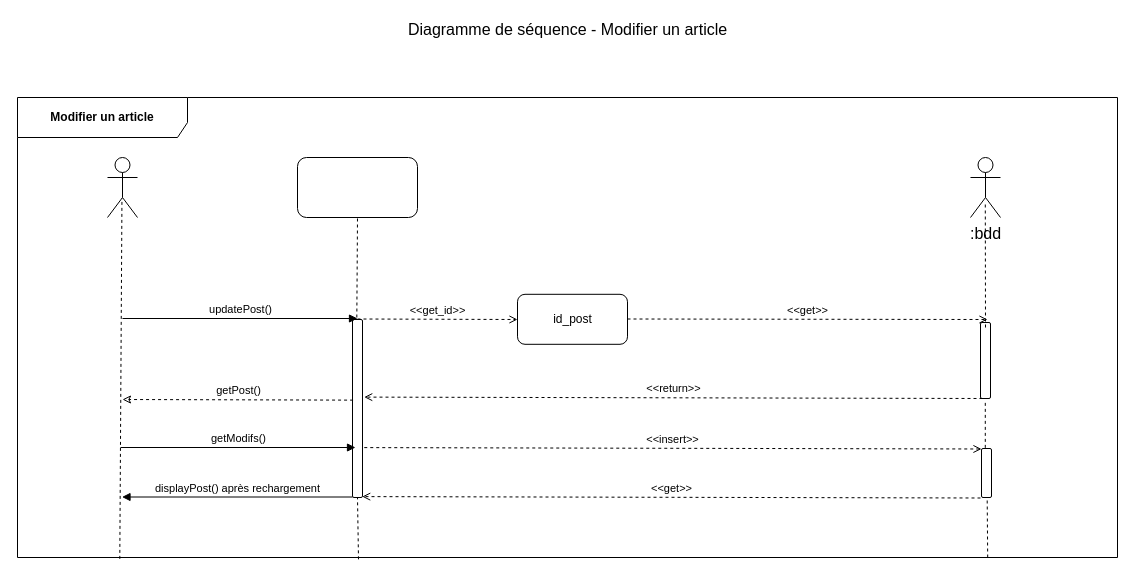
Image size: 1135x578. Some labels were removed from this diagram. The centre of each missing label's shape, as x and y in pixels:
":admin" goes at (x=122, y=187).
":system" goes at (x=357, y=187).
